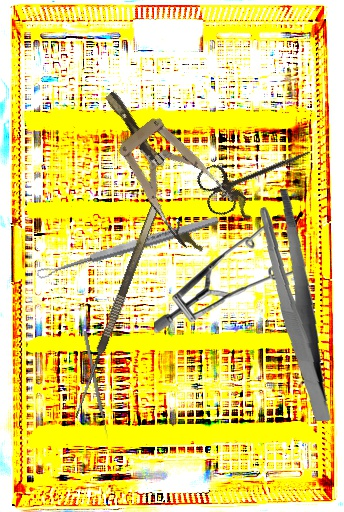Dressing Forceps: (249, 187, 343, 422)
Hook Surgical: (70, 204, 171, 424)
Iris Scissors: (193, 126, 320, 220)
Pusher: (82, 330, 110, 440)
Speculum: (79, 68, 257, 262), (154, 218, 300, 334)
Surgical Spoon: (35, 213, 221, 281)
